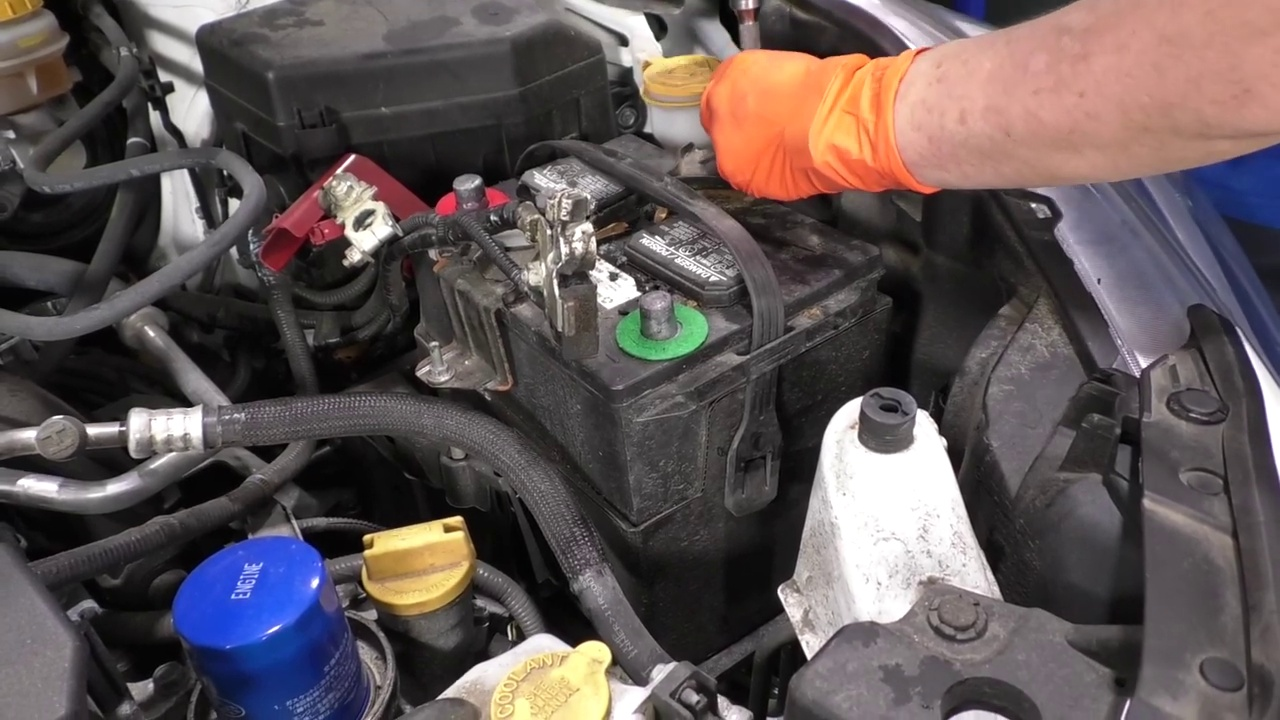battery: (425, 136, 873, 392)
neg_disconnected: (611, 269, 717, 377)
pos_disconnected: (291, 140, 513, 277)
